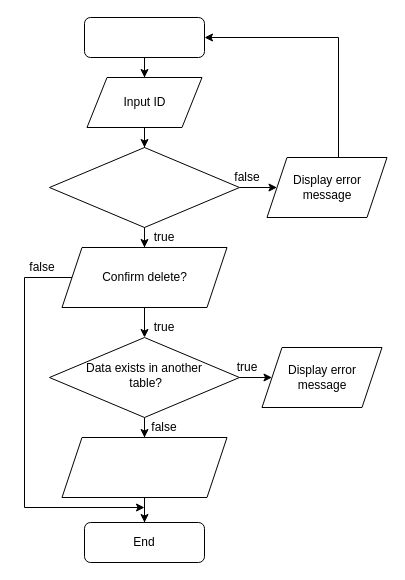
Image size: 405x580. Some labels were removed from this diagram. The centre of each missing label's shape, as x and y in pixels:
Delete from appropriate table: the point at 144,467
If exists in the appropriate table?: the point at 144,187
Start: the point at 144,37
